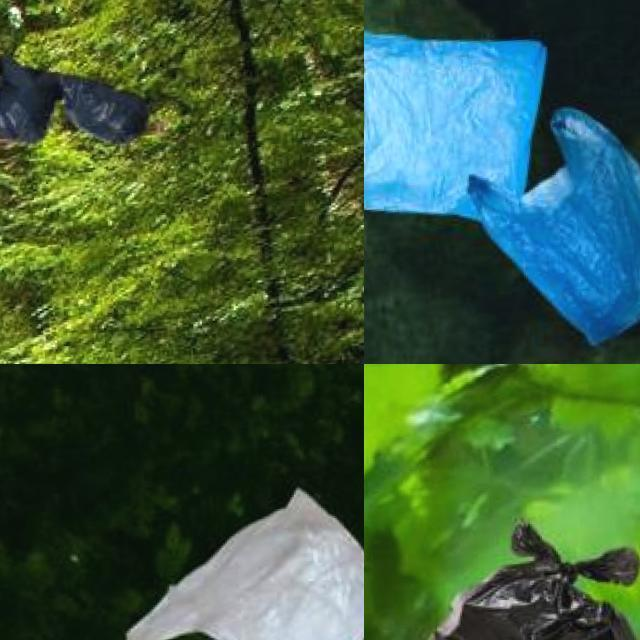waste: (463, 79, 640, 341), (364, 12, 553, 225), (118, 485, 364, 640), (364, 514, 640, 640), (58, 73, 154, 148), (0, 58, 67, 150)
